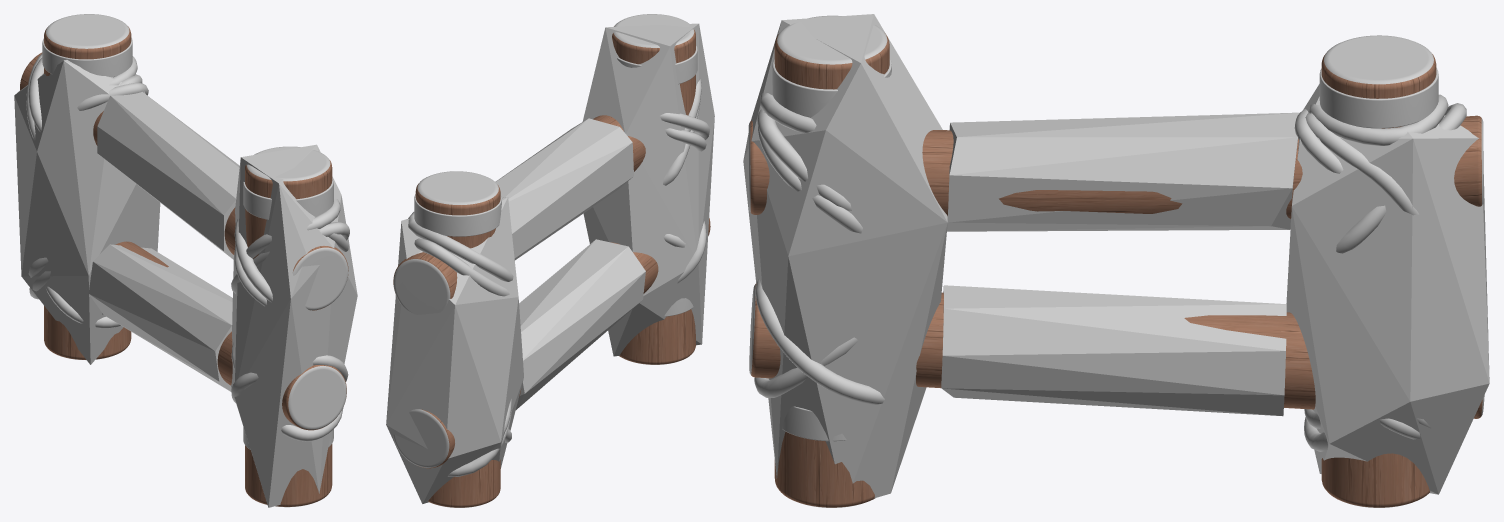
Rendered from SM_WoodenFence_2m_01.fbx.
3 renders of one model, left to right at view 1: azimuth 30°, elevation 25°; view 2: azimuth 150°, elevation 25°; view 3: azimuth 270°, elevation 25°, orthographic. The views are drawn at different scales.
Parts seen in each view (by area): view 1: SM_WoodenFence_2m_01_ConvexHulls, SM_WoodenFence_2m_01; view 2: SM_WoodenFence_2m_01_ConvexHulls, SM_WoodenFence_2m_01; view 3: SM_WoodenFence_2m_01_ConvexHulls, SM_WoodenFence_2m_01.
Boxes of the visible parts, x1=… form: SM_WoodenFence_2m_01_ConvexHulls: x1=14, y1=59, x2=357, y2=507; SM_WoodenFence_2m_01: x1=20, y1=14, x2=349, y2=507; SM_WoodenFence_2m_01_ConvexHulls: x1=386, y1=23, x2=714, y2=503; SM_WoodenFence_2m_01: x1=393, y1=14, x2=710, y2=507; SM_WoodenFence_2m_01_ConvexHulls: x1=743, y1=14, x2=1489, y2=498; SM_WoodenFence_2m_01: x1=748, y1=15, x2=1484, y2=507.
Bounding box in the file's own units: 47.15 × 202 × 135.
Materials: 4 (1 with a texture image).
